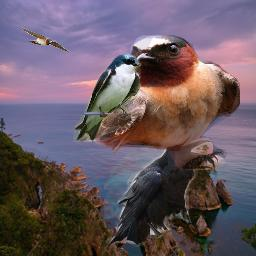Crow: (104, 140, 211, 250)
Swallow: (78, 35, 240, 170), (73, 53, 141, 142), (19, 26, 70, 52)
